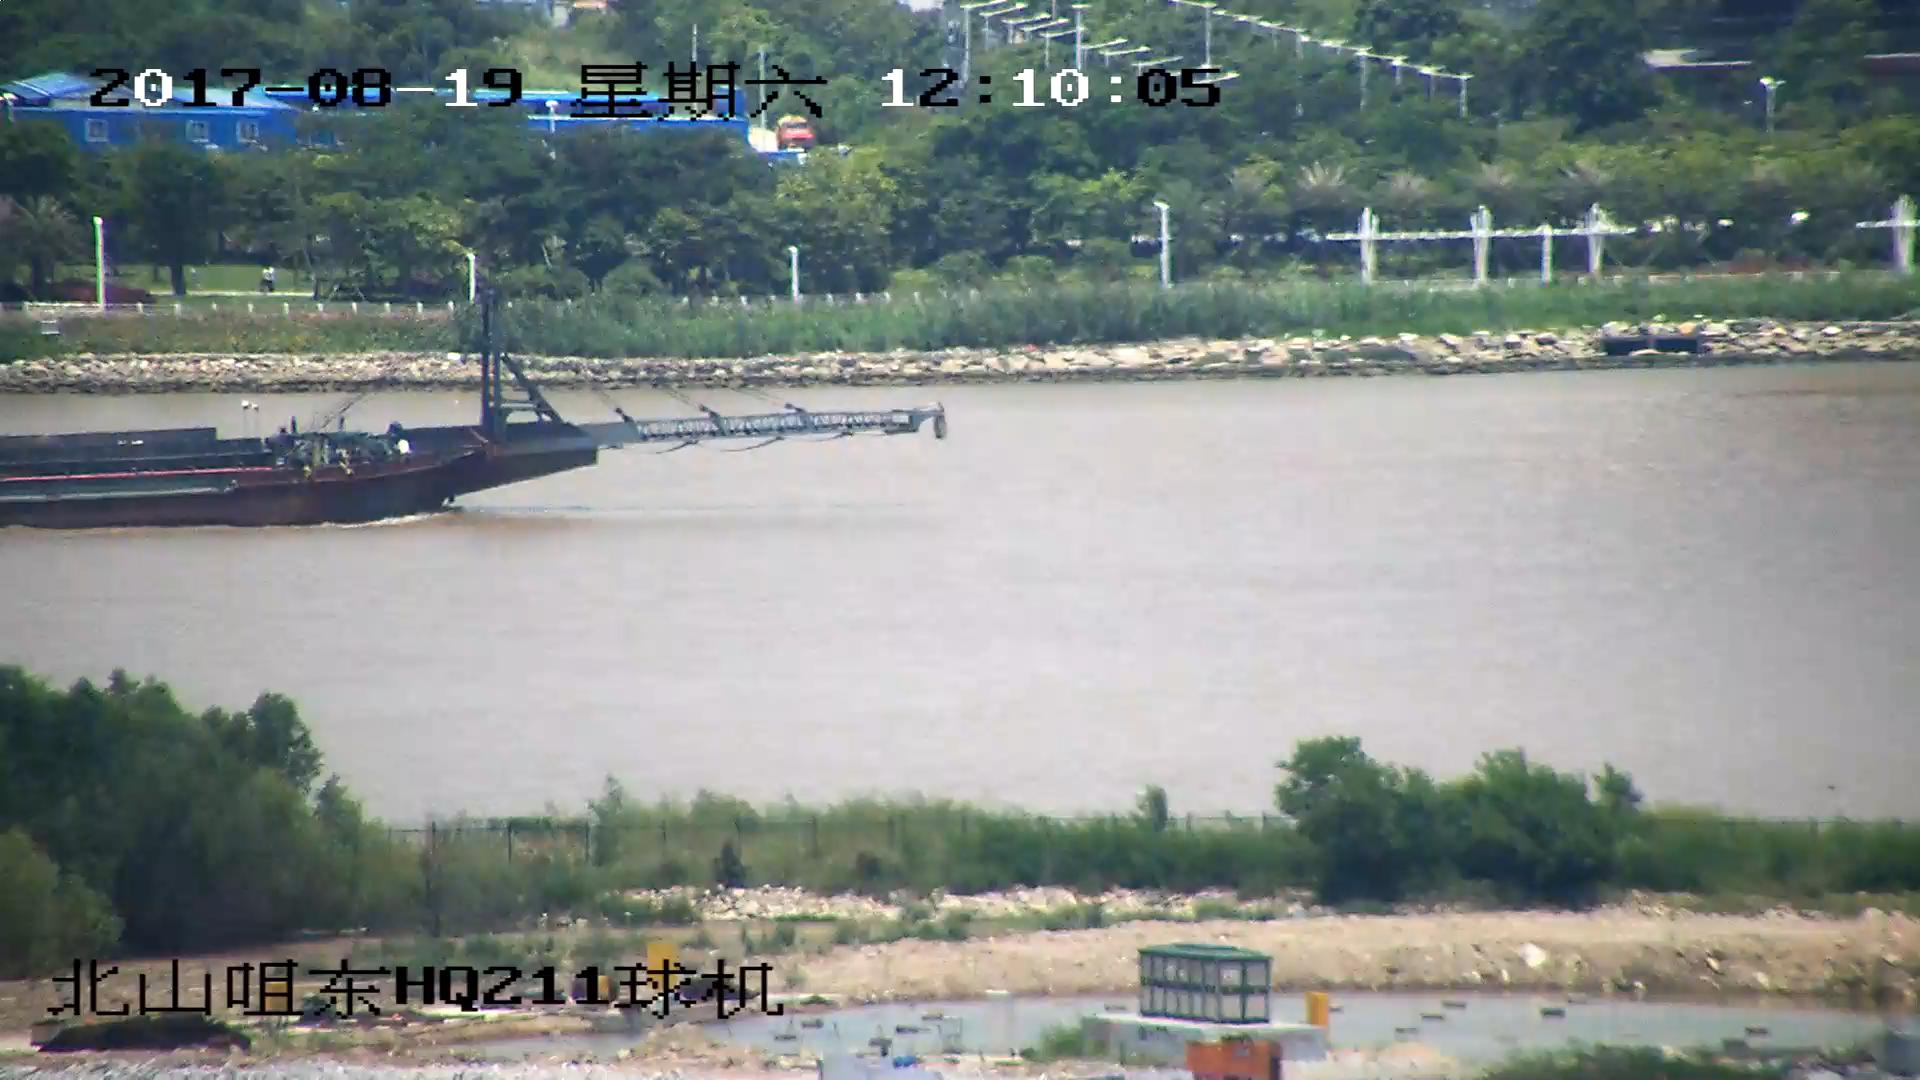bulk cargo carrier: (1, 280, 927, 535)
